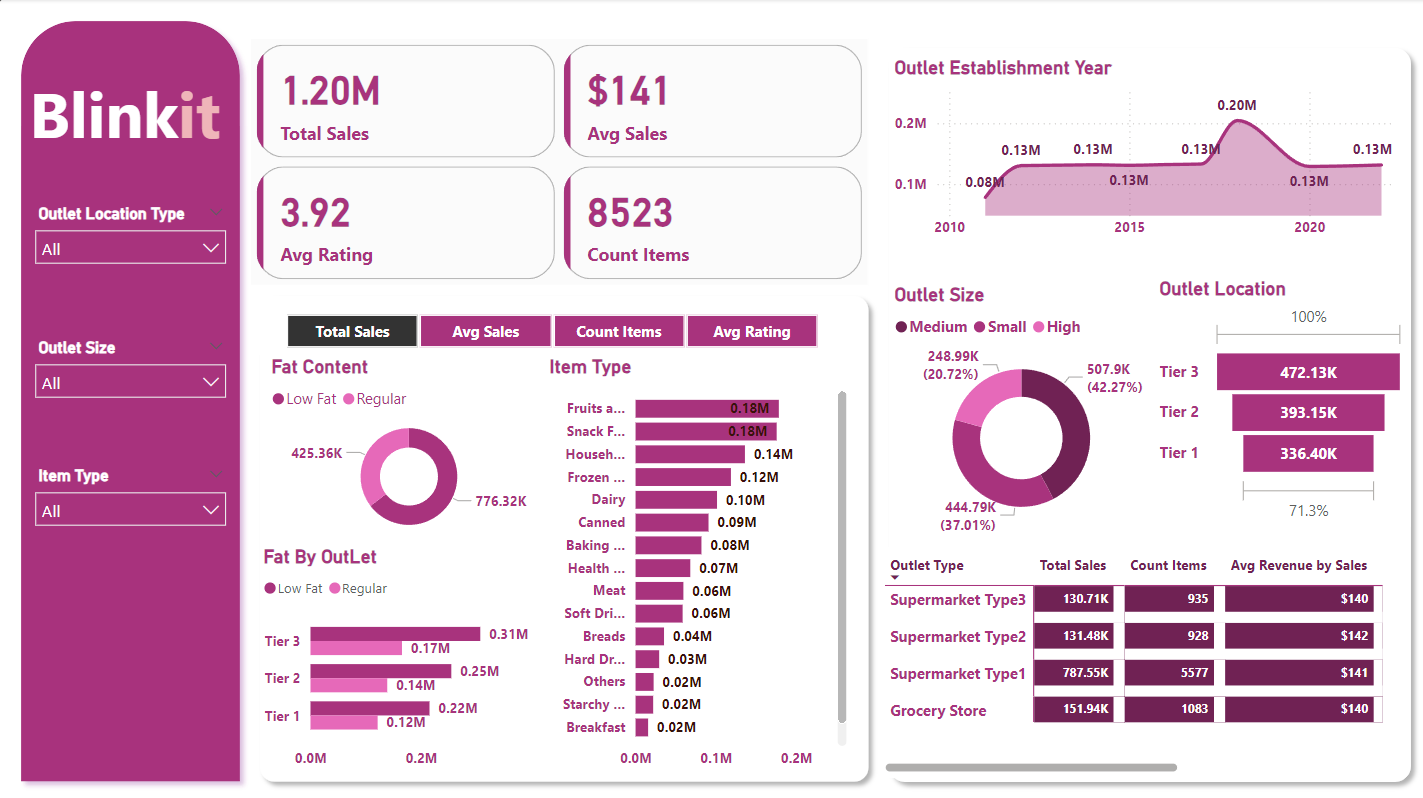

What the dashboard file says about the page in this screenshot:
{"tool":"powerbi","page":{"name":"Page 1","canvas":[1280,720],"ordinal":0},"visuals":[{"type":"shape","box":[11,11,214,699],"z":0},{"type":"textbox","box":[22,59,191,87],"z":1000},{"type":"cardVisual","fields":{"Data":["BlinkIT Grocery Data.# Total Sales","BlinkIT Grocery Data.# Avg Sales","BlinkIT Grocery Data.#Avg Rating","BlinkIT Grocery Data.# Count Items"]},"box":[225,35,554,222],"z":2000},{"type":"shape","box":[225,257,563,453],"z":3000},{"type":"donutChart","title":"Fat Content","fields":{"Y":["BlinkIT Grocery Data.Total Sales"],"Category":["BlinkIT Grocery Data.Item Fat Content"]},"box":[239,319,256,170],"z":4000},{"type":"clusteredBarChart","title":"Fat By OutLet","fields":{"Y":["BlinkIT Grocery Data.Total Sales"],"Category":["BlinkIT Grocery Data.Outlet Location Type"],"Series":["BlinkIT Grocery Data.Item Fat Content"]},"box":[232,489,263,209],"z":5000},{"type":"shape","box":[788.1,34.9,485.4,675.2],"z":6000},{"type":"slicer","fields":{"Values":["Metrics.Metrics"]},"box":[232,276,525,43],"z":7000},{"type":"barChart","title":"Item Type","fields":{"Y":["BlinkIT Grocery Data.Total Sales"],"Category":["BlinkIT Grocery Data.Item Type"]},"box":[488,319,276,379],"z":8000},{"type":"lineChart","title":"Outlet Establishment Year","fields":{"Y":["BlinkIT Grocery Data.#Total Sales"],"Category":["BlinkIT Grocery Data.Outlet Establishment Year"]},"box":[797,51,460,172],"z":9000},{"type":"donutChart","title":"Outlet Size","fields":{"Category":["BlinkIT Grocery Data.Outlet Size"],"Y":["BlinkIT Grocery Data.#Total Sales"]},"box":[797,254,237,230],"z":10000},{"type":"funnel","title":"Outlet Location","fields":{"Category":["BlinkIT Grocery Data.Outlet Location Type"],"Y":["Sum(BlinkIT Grocery Data.Sales)"]},"box":[1034.3,249,230.1,223.9],"z":11000},{"type":"pivotTable","fields":{"Rows":["BlinkIT Grocery Data.Outlet Type"],"Values":["BlinkIT Grocery Data.#Total Sales","BlinkIT Grocery Data.# Count Items","BlinkIT Grocery Data.# Avg Sales","BlinkIT Grocery Data.#Avg Rating","Sum(BlinkIT Grocery Data.Item Visibility)"]},"box":[788,491,456,207],"z":12000},{"type":"slicer","fields":{"Values":["BlinkIT Grocery Data.Outlet Location Type"]},"box":[22,179,191,70],"z":13000},{"type":"slicer","fields":{"Values":["BlinkIT Grocery Data.Outlet Size"]},"box":[22,299,191,70],"z":14000},{"type":"slicer","fields":{"Values":["BlinkIT Grocery Data.Item Type"]},"box":[22,414,191,70],"z":15000}]}

Visuals, with their boxes in screenshot pixels (x1, y1, x2, y2), scaled from the page's 1280x720 canvas onto the 1423x798 screenshot:
shape: rect(12, 12, 250, 787)
textbox: rect(24, 65, 237, 162)
cardVisual - BlinkIT Grocery Data.# Total Sales x BlinkIT Grocery Data.# Avg Sales: rect(250, 39, 866, 285)
shape: rect(250, 285, 876, 787)
"Fat Content" donutChart: rect(266, 354, 550, 542)
"Fat By OutLet" clusteredBarChart: rect(258, 542, 550, 774)
shape: rect(876, 39, 1416, 787)
slicer - Metrics.Metrics: rect(258, 306, 842, 354)
"Item Type" barChart: rect(543, 354, 849, 774)
"Outlet Establishment Year" lineChart: rect(886, 57, 1397, 247)
"Outlet Size" donutChart: rect(886, 282, 1150, 536)
"Outlet Location" funnel: rect(1150, 276, 1406, 524)
pivotTable - BlinkIT Grocery Data.Outlet Type x BlinkIT Grocery Data.#Total Sales: rect(876, 544, 1383, 774)
slicer - BlinkIT Grocery Data.Outlet Location Type: rect(24, 198, 237, 276)
slicer - BlinkIT Grocery Data.Outlet Size: rect(24, 331, 237, 409)
slicer - BlinkIT Grocery Data.Item Type: rect(24, 459, 237, 536)
